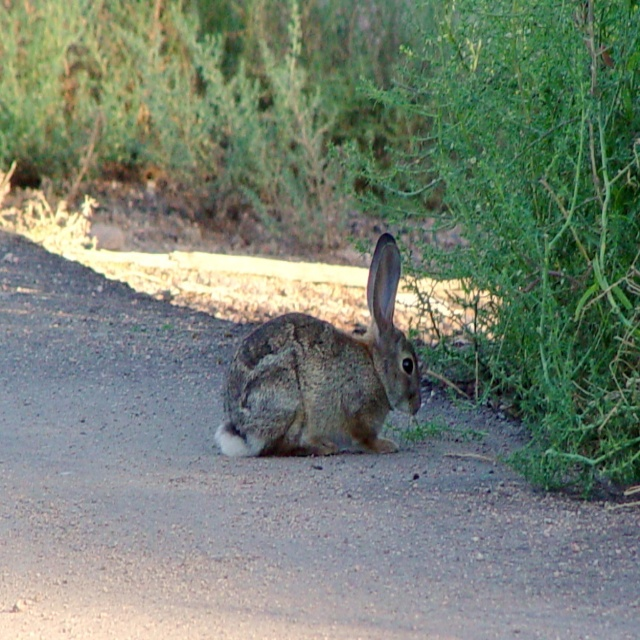Rabbit: (211, 232, 425, 457)
